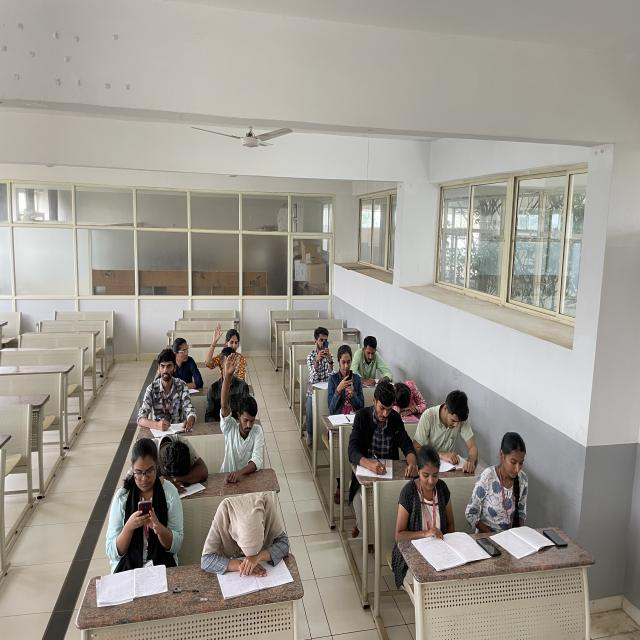Hand Rising: (216, 350, 267, 490), (203, 322, 250, 378)
Reading: (474, 429, 538, 542), (395, 444, 457, 558), (414, 387, 482, 467), (355, 333, 391, 387)
Sleeping: (201, 490, 293, 588), (152, 427, 212, 493), (394, 375, 430, 417)
Using Phone: (105, 438, 186, 572), (326, 345, 364, 413), (307, 324, 334, 384), (224, 456, 226, 462)
Writing: (350, 378, 408, 485), (137, 348, 201, 436)
